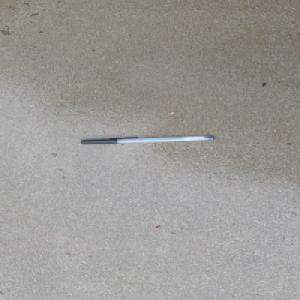Pen: (80, 135, 215, 145)
